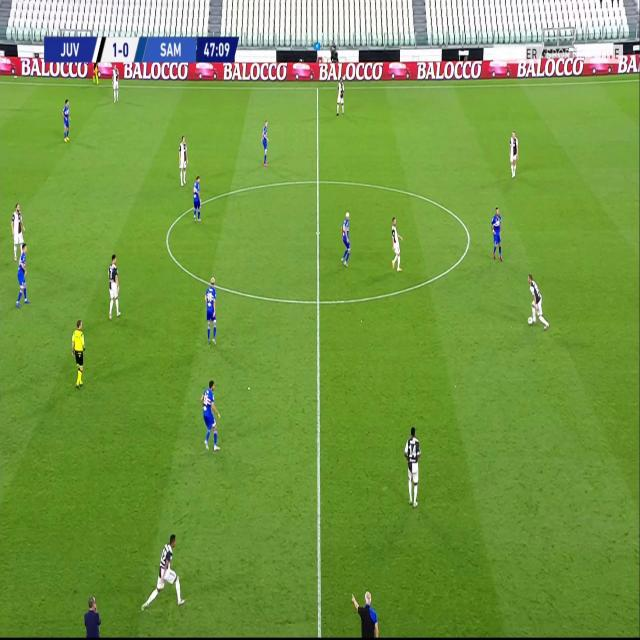ball: (527, 315, 533, 325)
player: (138, 533, 188, 615), (199, 378, 221, 454), (402, 423, 422, 506), (352, 587, 382, 638), (526, 271, 549, 331), (105, 250, 122, 319), (70, 317, 86, 388), (80, 592, 104, 638), (203, 275, 218, 344), (10, 199, 26, 262), (388, 214, 405, 272), (15, 246, 30, 310), (490, 204, 504, 262), (339, 208, 352, 268), (508, 128, 520, 178), (191, 174, 203, 224), (177, 132, 188, 186), (60, 96, 72, 142), (259, 118, 270, 166), (336, 76, 346, 115), (110, 63, 119, 102), (93, 60, 100, 83)
